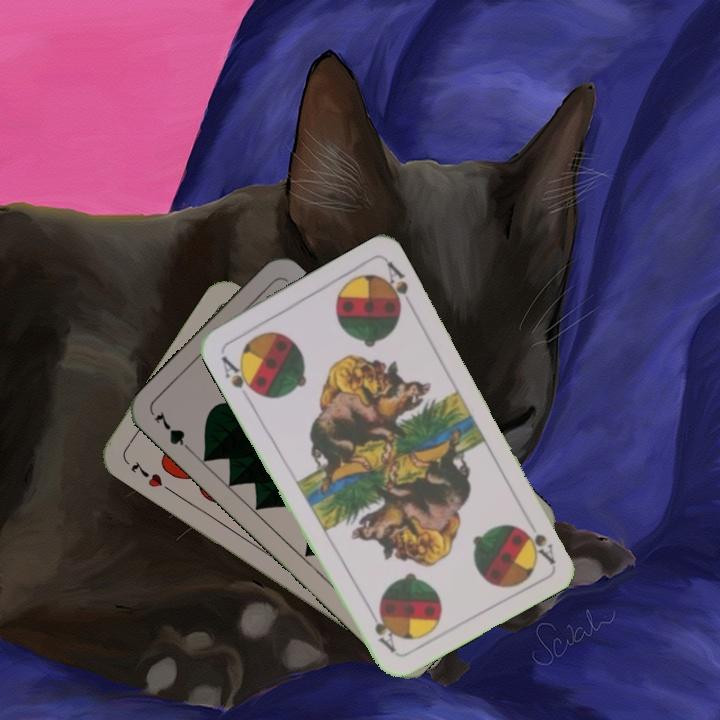G7: (150, 407, 197, 456)
H7: (127, 457, 166, 490)
SA: (217, 351, 261, 398), (518, 524, 558, 567)
